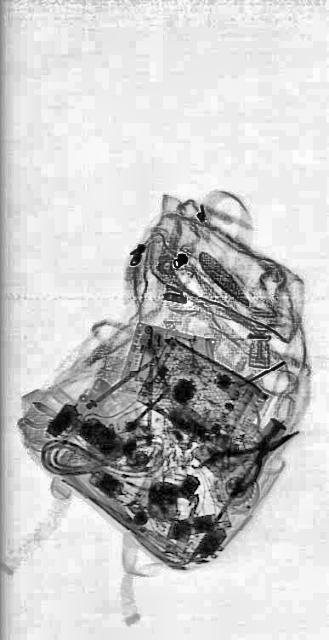Pliers: (194, 398, 302, 520)
